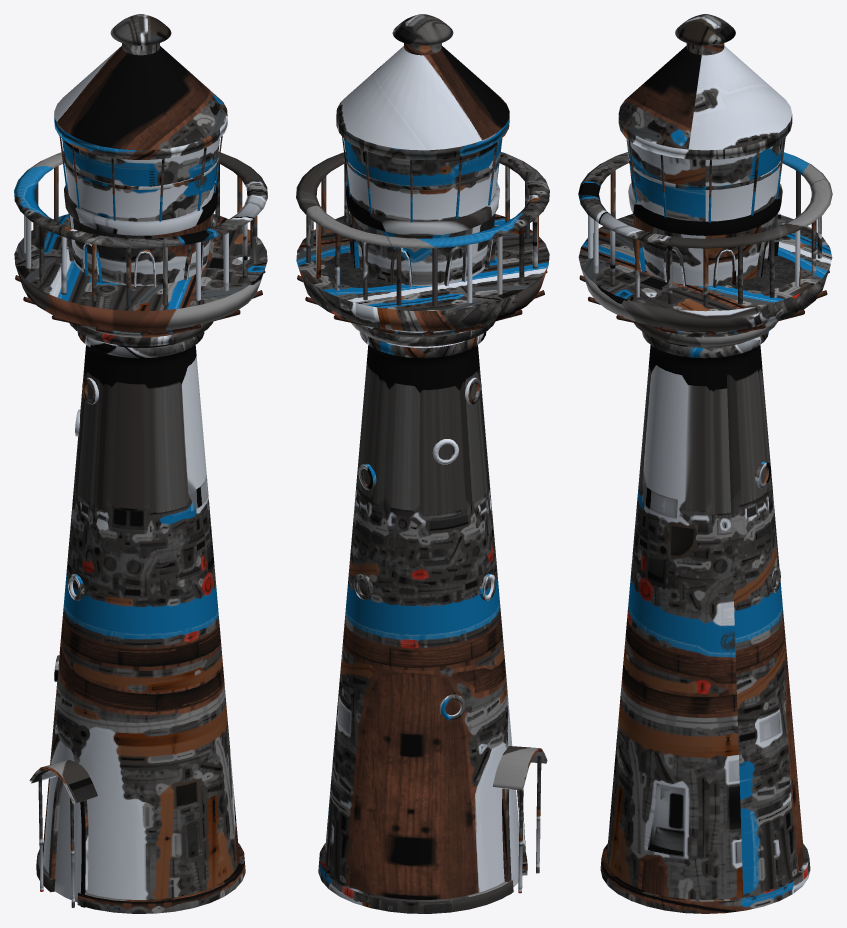
File: lighthouse.obj
3 renders of one model, left to right at view 1: azimuth 30°, elevation 25°; view 2: azimuth 150°, elevation 25°; view 3: azimuth 270°, elevation 25°, orthographic.
Parts seen in each view (by area): view 1: Lighthouse_low Lighthouse_low Lighthouse; view 2: Lighthouse_low Lighthouse_low Lighthouse; view 3: Lighthouse_low Lighthouse_low Lighthouse.
Boxes of the visible parts, x1,y1,x2,y2 form: Lighthouse_low Lighthouse_low Lighthouse: [14, 14, 267, 913]; Lighthouse_low Lighthouse_low Lighthouse: [296, 14, 549, 913]; Lighthouse_low Lighthouse_low Lighthouse: [578, 14, 832, 913].
Bounding box in the file's own units: 19.97 × 74.11 × 19.97.
